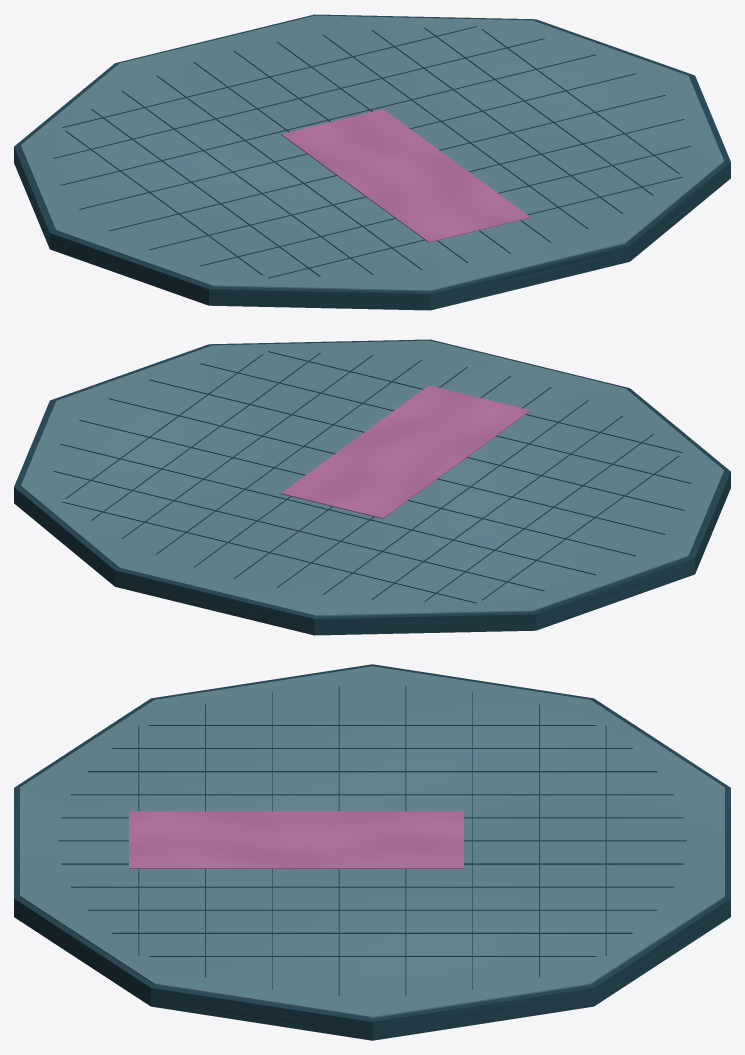
File: atlas100-s065-a07.glb
3 views of the same model, one above another, from view 1: azimuth 30°, elevation 25°; view 2: azimuth 150°, elevation 25°; view 3: azimuth 270°, elevation 25° (orthographic). The views are drawn at different scales.
Visible parts, largest first — view 1: atlas100-s065-a07:part-001, atlas100-s065-a07:part-000, atlas100-s065-a07:part-021, atlas100-s065-a07:part-015, atlas100-s065-a07:part-014, atlas100-s065-a07:part-016, atlas100-s065-a07:part-017, atlas100-s065-a07:part-018, atlas100-s065-a07:part-013, atlas100-s065-a07:part-019, atlas100-s065-a07:part-009, atlas100-s065-a07:part-005 (+3 smaller); view 2: atlas100-s065-a07:part-001, atlas100-s065-a07:part-000, atlas100-s065-a07:part-021, atlas100-s065-a07:part-015, atlas100-s065-a07:part-014, atlas100-s065-a07:part-017, atlas100-s065-a07:part-016, atlas100-s065-a07:part-018, atlas100-s065-a07:part-013, atlas100-s065-a07:part-019, atlas100-s065-a07:part-020, atlas100-s065-a07:part-009 (+3 smaller); view 3: atlas100-s065-a07:part-001, atlas100-s065-a07:part-000, atlas100-s065-a07:part-021, atlas100-s065-a07:part-009, atlas100-s065-a07:part-005, atlas100-s065-a07:part-010, atlas100-s065-a07:part-004, atlas100-s065-a07:part-011.
Boxes of the visible parts, left/top/right/bottom form: atlas100-s065-a07:part-001: left=21, top=15, right=723, bottom=291; atlas100-s065-a07:part-000: left=14, top=14, right=730, bottom=310; atlas100-s065-a07:part-021: left=281, top=109, right=530, bottom=242; atlas100-s065-a07:part-015: left=60, top=54, right=596, bottom=185; atlas100-s065-a07:part-014: left=53, top=38, right=544, bottom=158; atlas100-s065-a07:part-016: left=79, top=73, right=636, bottom=209; atlas100-s065-a07:part-017: left=109, top=95, right=665, bottom=231; atlas100-s065-a07:part-018: left=148, top=119, right=684, bottom=250; atlas100-s065-a07:part-013: left=62, top=26, right=476, bottom=127; atlas100-s065-a07:part-019: left=200, top=146, right=691, bottom=266; atlas100-s065-a07:part-009: left=323, top=34, right=588, bottom=229; atlas100-s065-a07:part-005: left=156, top=75, right=422, bottom=269; atlas100-s065-a07:part-001: left=21, top=340, right=723, bottom=616; atlas100-s065-a07:part-000: left=14, top=339, right=730, bottom=635; atlas100-s065-a07:part-021: left=281, top=385, right=530, bottom=518; atlas100-s065-a07:part-015: left=60, top=444, right=596, bottom=575; atlas100-s065-a07:part-014: left=53, top=471, right=544, bottom=591; atlas100-s065-a07:part-017: left=108, top=398, right=665, bottom=534; atlas100-s065-a07:part-016: left=79, top=420, right=635, bottom=556; atlas100-s065-a07:part-018: left=148, top=379, right=684, bottom=510; atlas100-s065-a07:part-013: left=62, top=501, right=476, bottom=603; atlas100-s065-a07:part-019: left=200, top=363, right=691, bottom=483; atlas100-s065-a07:part-020: left=268, top=351, right=682, bottom=452; atlas100-s065-a07:part-009: left=156, top=359, right=421, bottom=554; atlas100-s065-a07:part-001: left=20, top=666, right=724, bottom=1018; atlas100-s065-a07:part-000: left=14, top=664, right=730, bottom=1040; atlas100-s065-a07:part-021: left=129, top=811, right=463, bottom=868; atlas100-s065-a07:part-009: left=71, top=886, right=673, bottom=887; atlas100-s065-a07:part-005: left=71, top=794, right=673, bottom=795; atlas100-s065-a07:part-010: left=87, top=909, right=657, bottom=910; atlas100-s065-a07:part-004: left=87, top=771, right=657, bottom=772; atlas100-s065-a07:part-011: left=112, top=932, right=632, bottom=933.
Size of the model in its own units: 13.95 by 0.404 by 11.81.
Materials: 3 (3 with a texture image).
